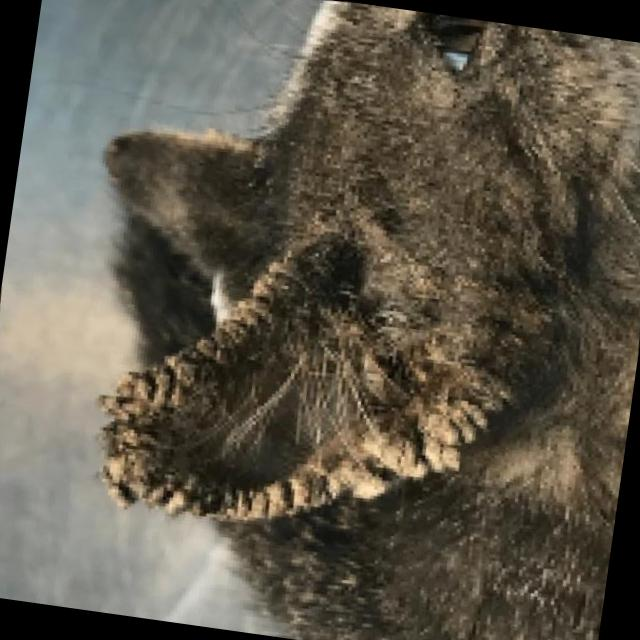Mange: (96, 231, 511, 527), (357, 250, 408, 310), (421, 330, 472, 378)
